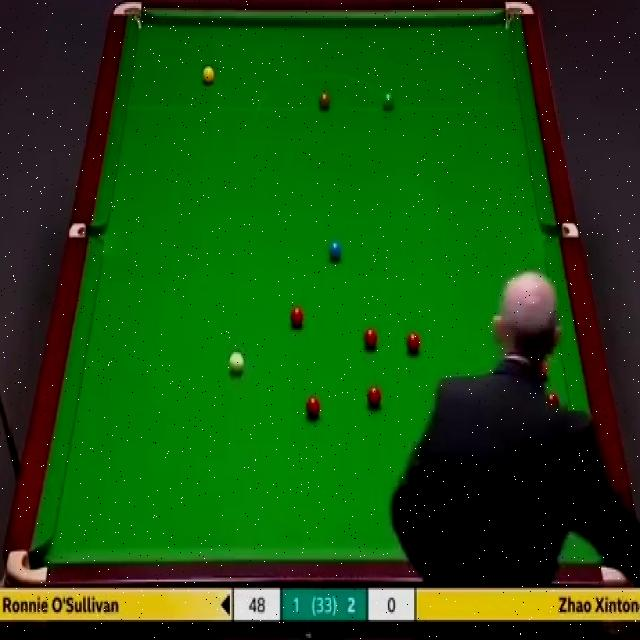blue-ball: (329, 237, 342, 263)
brown-ball: (318, 92, 332, 110)
green-ball: (381, 89, 396, 111)
red-ball: (305, 395, 322, 420), (366, 384, 381, 409), (362, 327, 378, 350), (407, 330, 421, 355), (290, 305, 304, 326)
white-ball: (229, 351, 245, 377)
yellow-ball: (203, 66, 215, 85)
